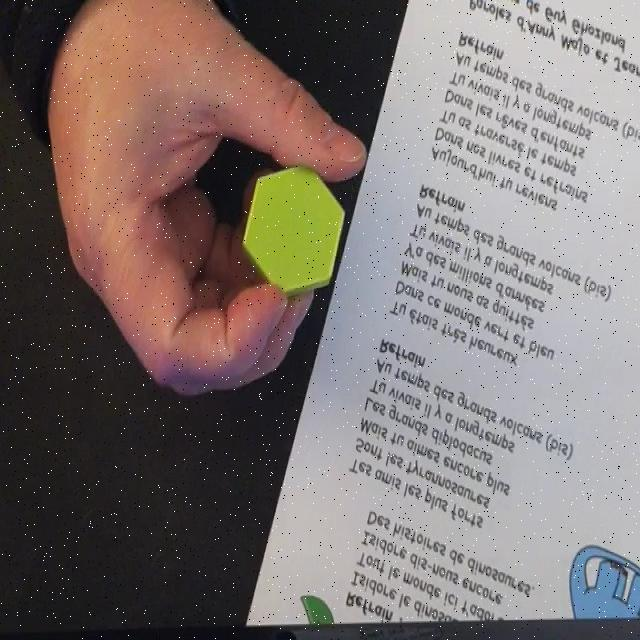hexagon: (241, 160, 346, 296)
